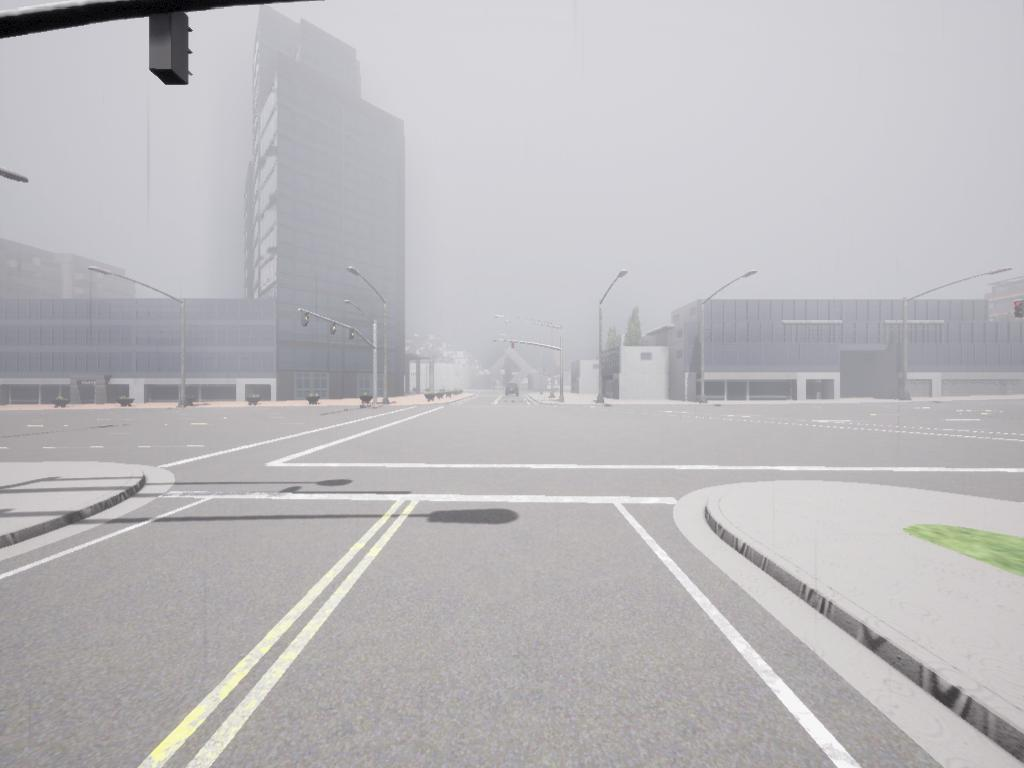traffic_light: (151, 14, 199, 87), (301, 311, 311, 329), (330, 321, 338, 339), (349, 329, 357, 343), (511, 343, 517, 351)
